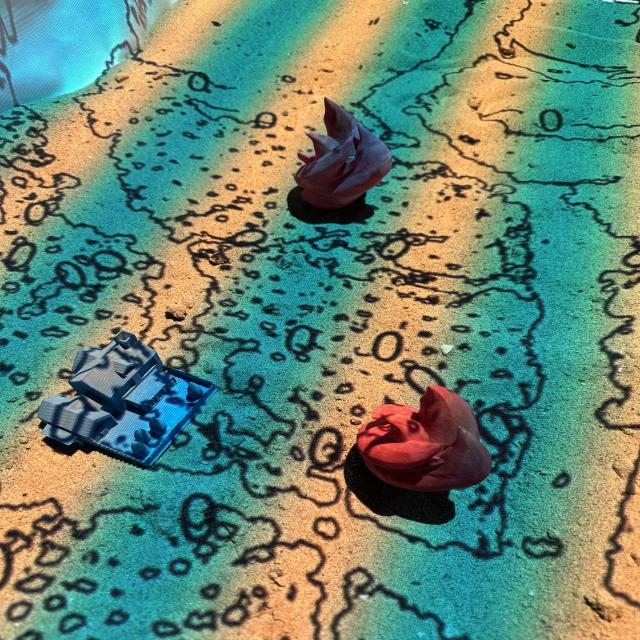fire: (356, 382, 491, 492), (294, 96, 392, 210)
house: (35, 329, 216, 468)
